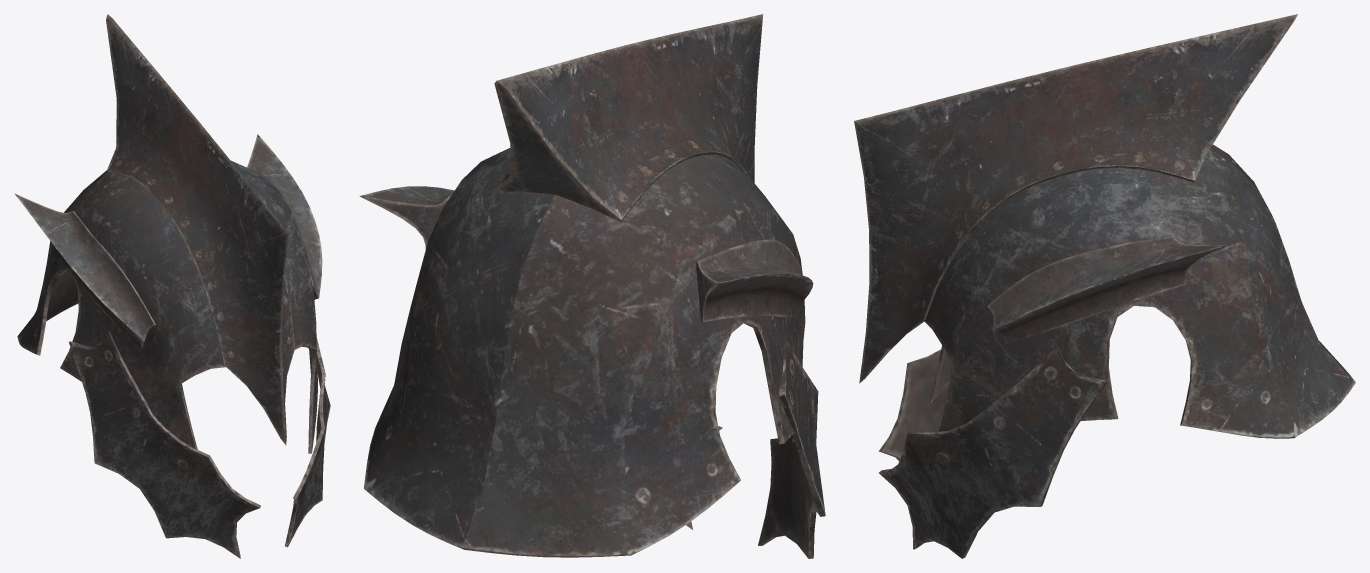
The model's file is sk_dg_uruk_helmet_elite_b.fbx.
3 renders of one model, left to right at view 1: azimuth 30°, elevation 25°; view 2: azimuth 150°, elevation 25°; view 3: azimuth 270°, elevation 25°, orthographic. The views are drawn at different scales.
Visible parts, largest first — view 1: sk_dg_uruk_helmet_elite_b; view 2: sk_dg_uruk_helmet_elite_b; view 3: sk_dg_uruk_helmet_elite_b.
Part boxes in pixels (x1,y1,x2,y2): sk_dg_uruk_helmet_elite_b: [14, 14, 330, 558]; sk_dg_uruk_helmet_elite_b: [359, 14, 825, 558]; sk_dg_uruk_helmet_elite_b: [854, 14, 1355, 558].
Bounding box in the file's own units: 0.2328 × 0.3357 × 0.385.
Materials: 1 (1 with a texture image).
